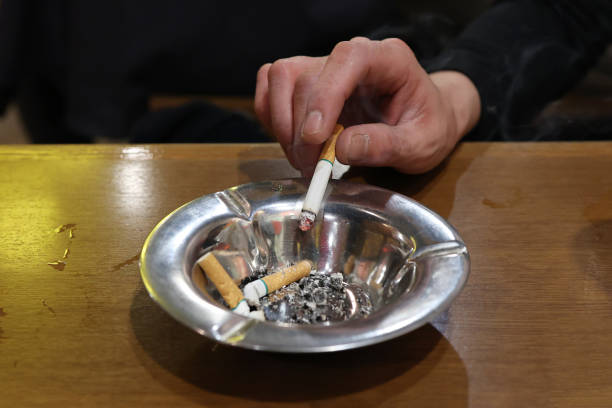cigarette: (296, 125, 344, 231), (241, 258, 313, 309), (196, 251, 250, 317)
